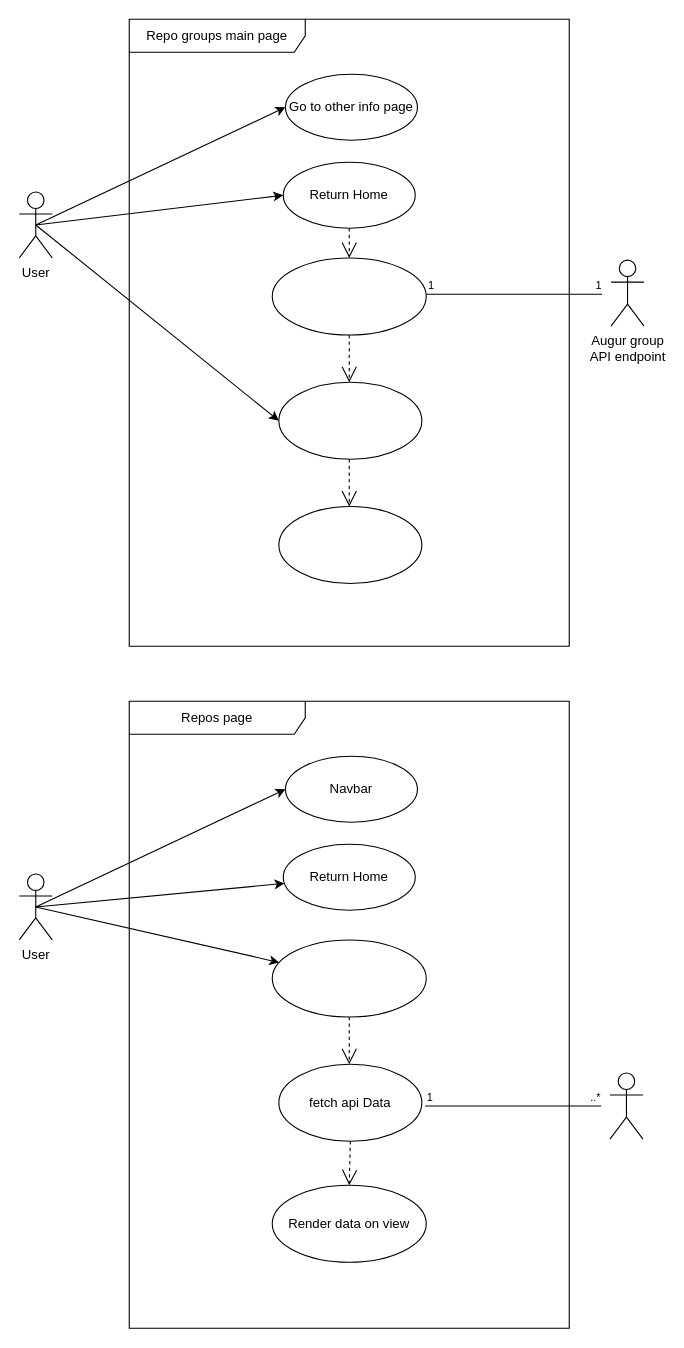
The diagram is 684 pixels wide and 1348 high, and some of its shapes have lost their labels. Each missing label, with the centre of its shape:
"Augur info Endpoints" belongs at [626,1105].
"Load/render repo groups" belongs at [348,296].
"select desired repo group" belongs at [350,420].
"Select Info to display" belongs at [348,978].
"send to repo page" belongs at [350,544].
